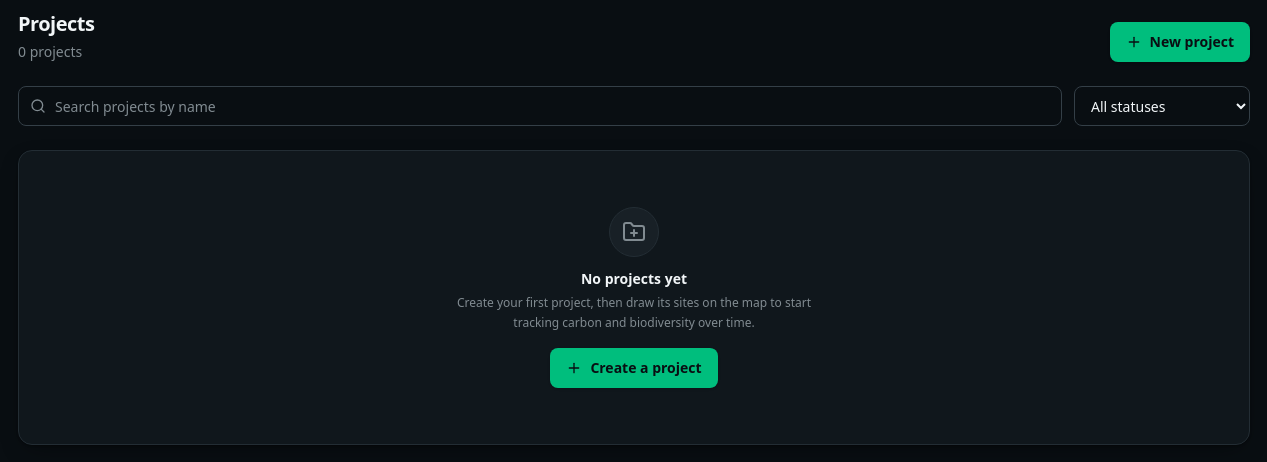
Scenario: DashboardPage › distinguishes "no matches" from "no projects" when filtering
The image size is (1267, 462).
Check: the heading "No projects yet" is shown, box [581,269,687,288]
In the field labelled "Search projects": (540, 106) [18,86,1062,126], type "zzz"
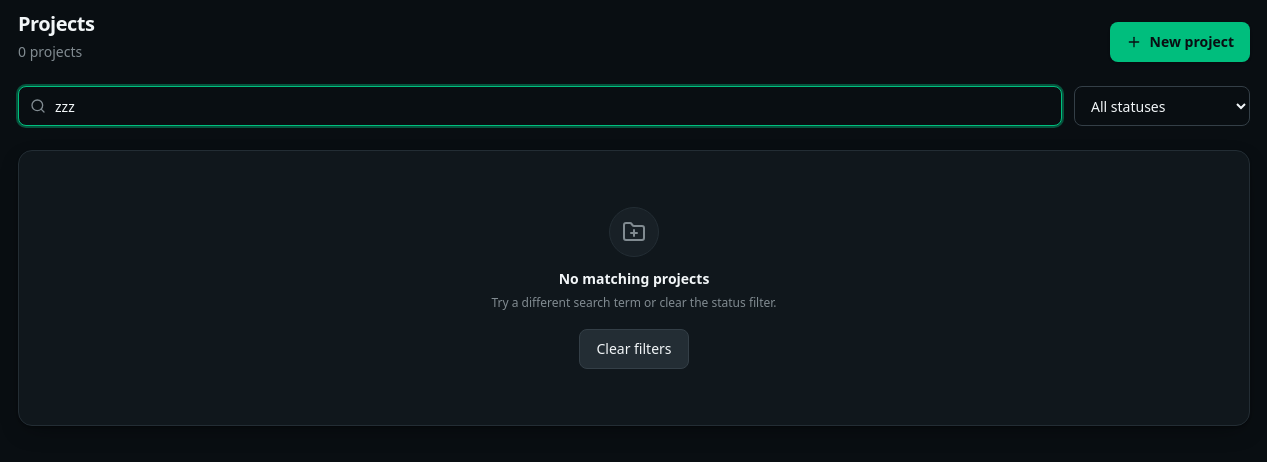
Check: the heading "No matching projects" is shown, box [559,269,709,288]
